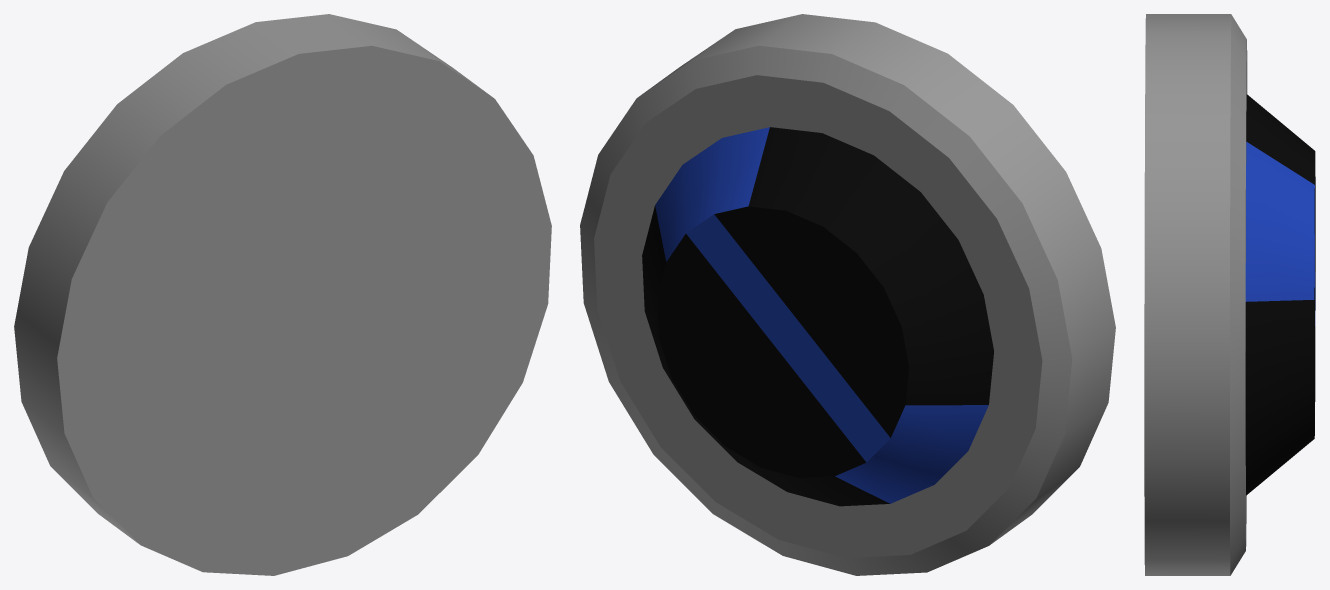
The model's file is Ending_round_01.FBX.
3 renders of one model, left to right at view 1: azimuth 30°, elevation 25°; view 2: azimuth 150°, elevation 25°; view 3: azimuth 270°, elevation 25°, orthographic.
Visible parts, largest first — view 1: Ending005; view 2: Ending005; view 3: Ending005.
Boxes of the visible parts, bbox=[...] form: Ending005: bbox=[14, 14, 551, 575]; Ending005: bbox=[580, 14, 1115, 575]; Ending005: bbox=[1144, 14, 1315, 575].
Size of the model in its own units: 443 by 443 by 135.
